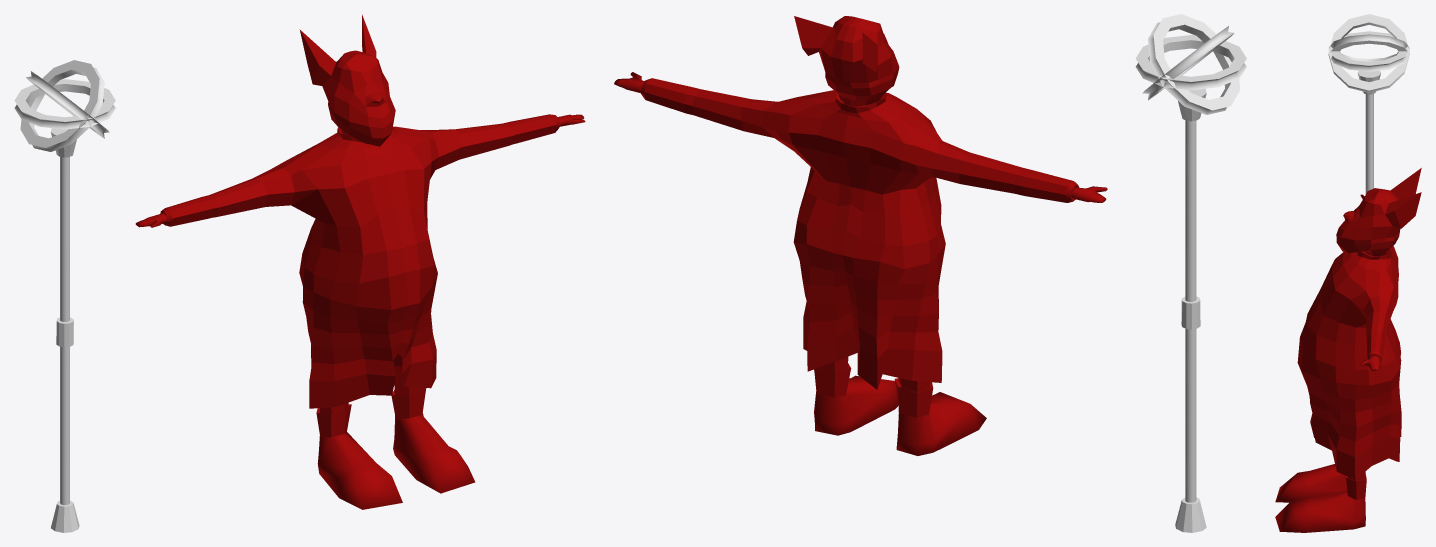
Rendered from Boss_001.FBX.
3 renders of one model, left to right at view 1: azimuth 30°, elevation 25°; view 2: azimuth 150°, elevation 25°; view 3: azimuth 270°, elevation 25°, orthographic. The views are drawn at different scales.
Visible parts, largest first — view 1: Boss, Cylinder001, Tube002, Tube001, Tube003, Baston; view 2: Boss, Cylinder001, Tube002, Tube001, Tube003, Baston; view 3: Boss, Tube003, Tube001, Tube002, Cylinder001, Gengon001.
Part boxes in pixels (<box>): Boss: <box>135,14,585,509</box>; Cylinder001: <box>60,157,69,505</box>; Tube002: <box>20,60,104,151</box>; Tube001: <box>14,79,115,129</box>; Tube003: <box>26,71,109,138</box>; Baston: <box>51,500,79,532</box>; Boss: <box>614,16,1107,455</box>; Cylinder001: <box>1185,120,1196,502</box>; Tube002: <box>1148,14,1240,114</box>; Tube001: <box>1135,35,1246,90</box>; Tube003: <box>1142,26,1234,100</box>; Baston: <box>1175,497,1206,532</box>; Boss: <box>1275,168,1421,532</box>; Tube003: <box>1328,14,1409,92</box>; Tube001: <box>1328,31,1409,71</box>; Tube002: <box>1328,34,1408,61</box>; Cylinder001: <box>1365,94,1373,194</box>; Gengon001: <box>1357,70,1380,94</box>.
Size of the model in its own units: 66.42 by 51.49 by 18.55.
